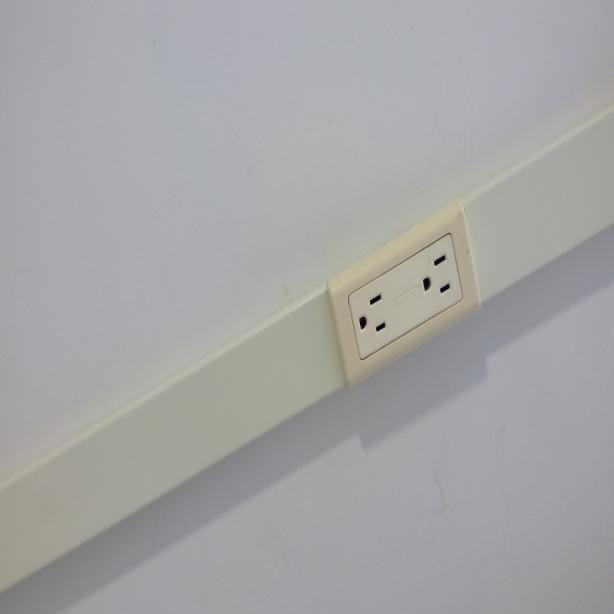typeb: (414, 248, 460, 316), (348, 282, 391, 349)
